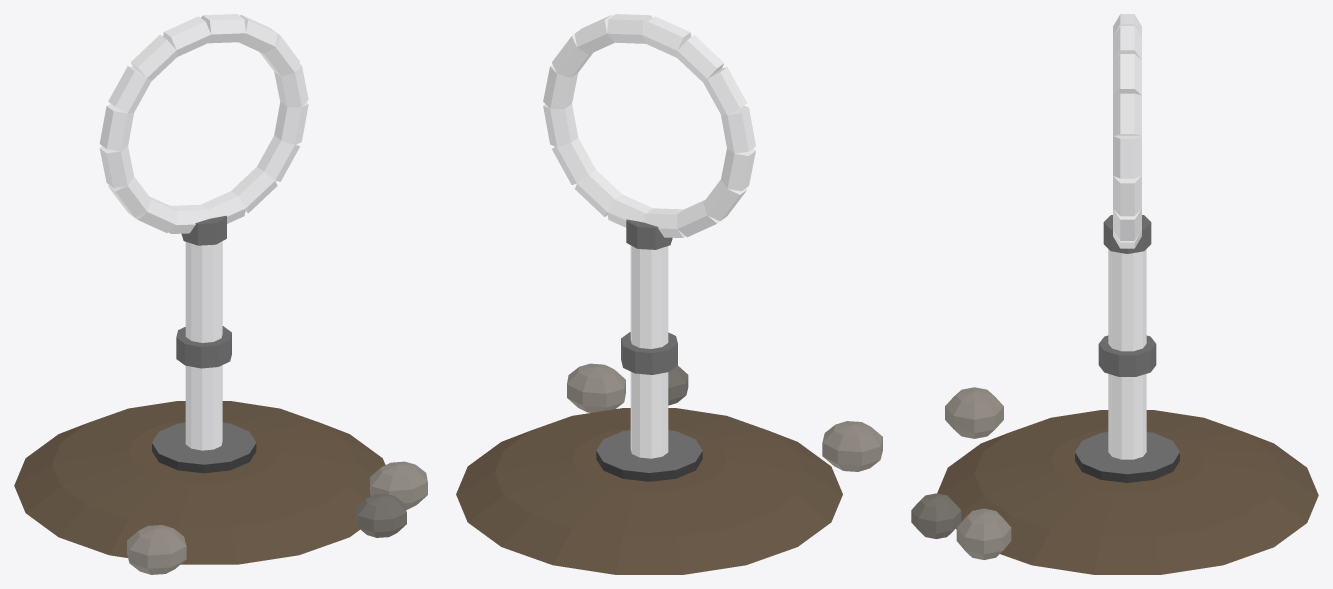
File: Building_HoopstoneRing.glb
3 views of the same model, side by side, from view 1: azimuth 30°, elevation 25°; view 2: azimuth 150°, elevation 25°; view 3: azimuth 270°, elevation 25° (orthographic).
Parts seen in each view (by area): view 1: HoopstoneRing; view 2: HoopstoneRing; view 3: HoopstoneRing.
Part boxes in pixels (bbox=[...]): HoopstoneRing: bbox=[14, 14, 427, 574]; HoopstoneRing: bbox=[456, 14, 882, 574]; HoopstoneRing: bbox=[911, 14, 1318, 574].
Bounding box in the file's own units: 0.7878 × 1.09 × 0.8523.
1 material, 1 textured.
